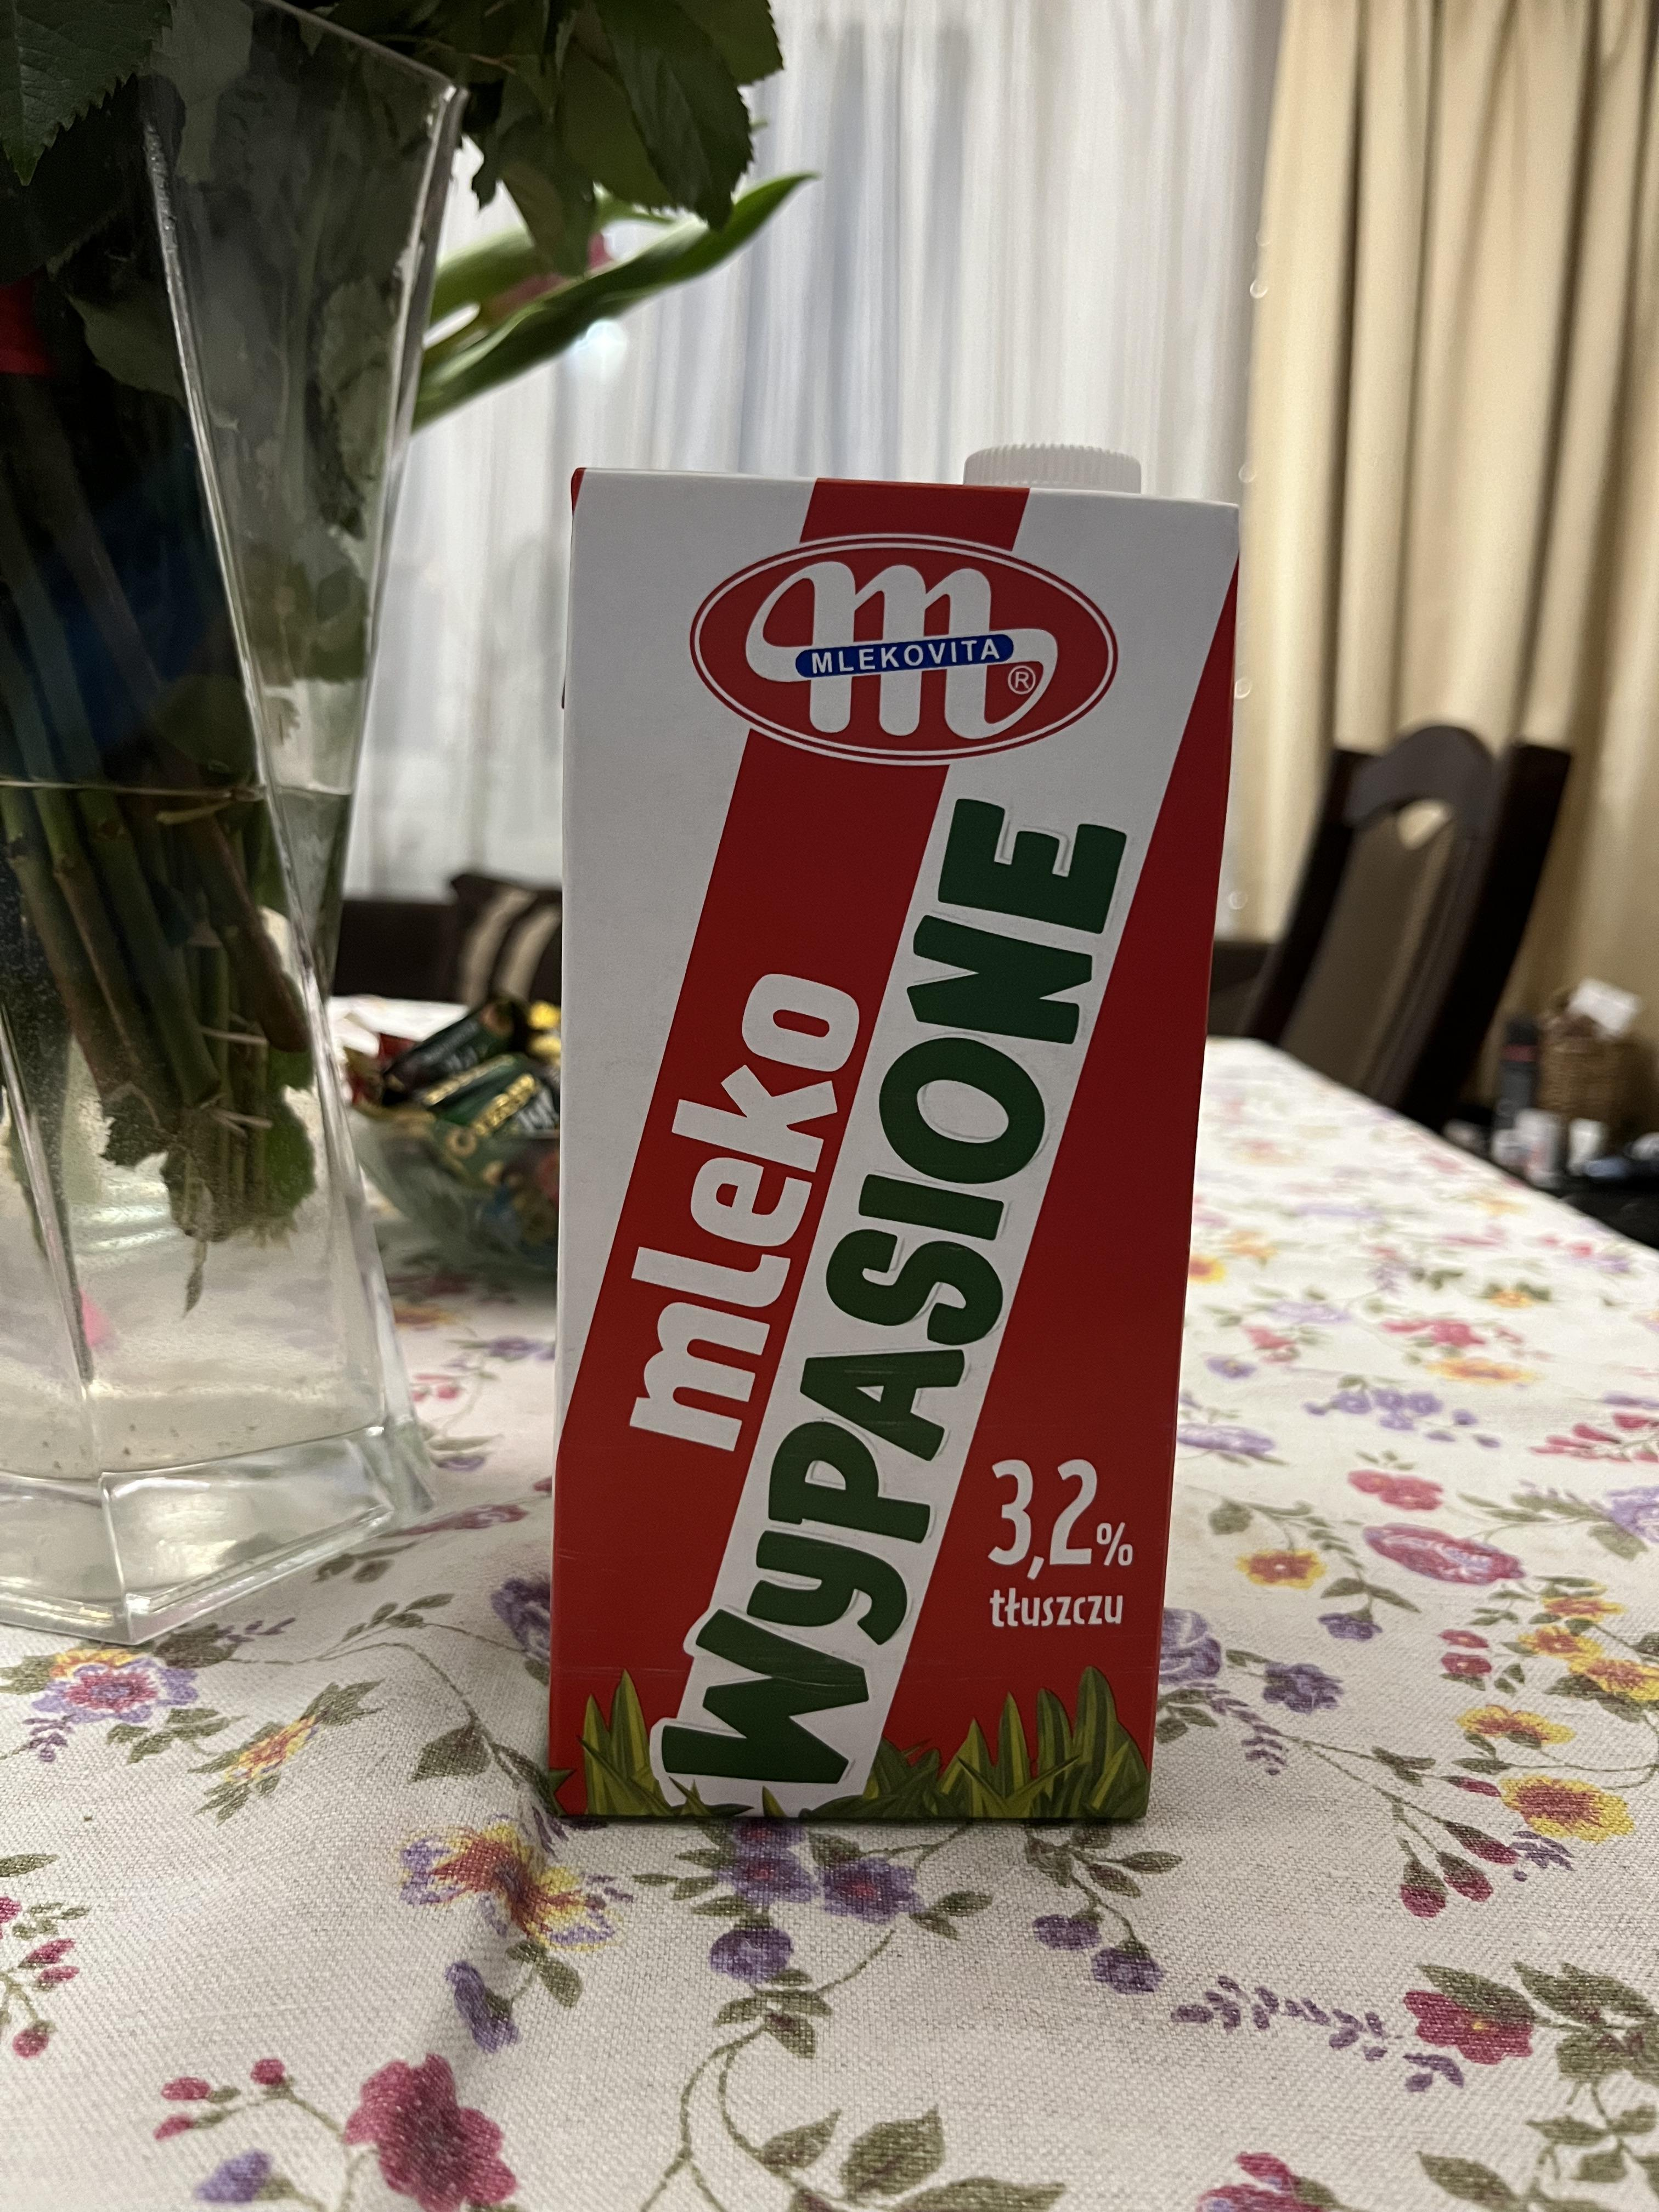Milk: (556, 469, 1229, 1832)
